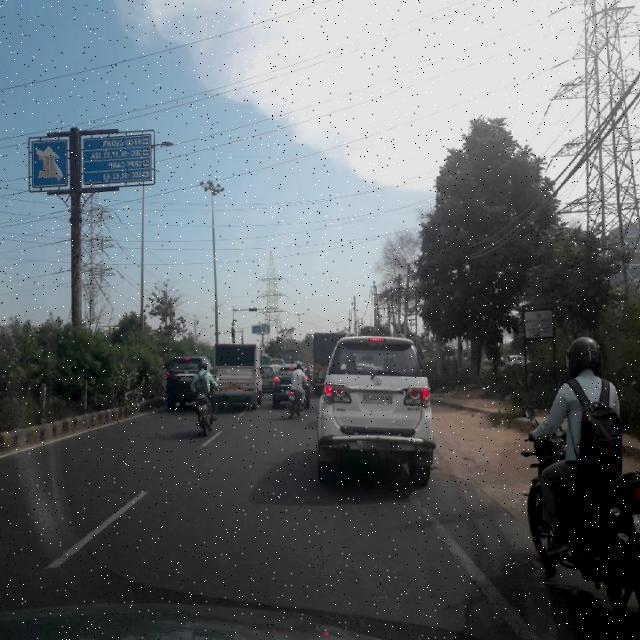D20: (84, 479, 235, 601), (310, 504, 436, 637)
D44: (417, 494, 531, 628)
